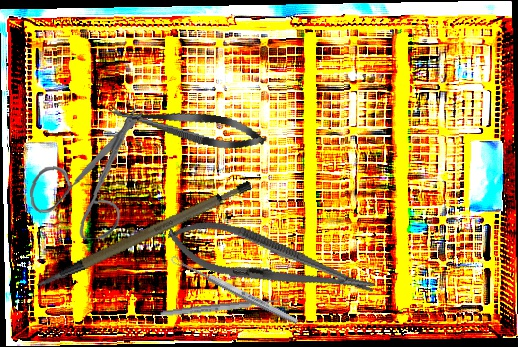Iris Scissors: (24, 103, 155, 244)
Micro Scissor: (104, 94, 269, 157)
Needle Holder: (162, 209, 380, 314)
Scalpel Handle: (23, 177, 262, 290)
Surgical Spoon: (169, 253, 300, 327), (159, 296, 291, 318)
